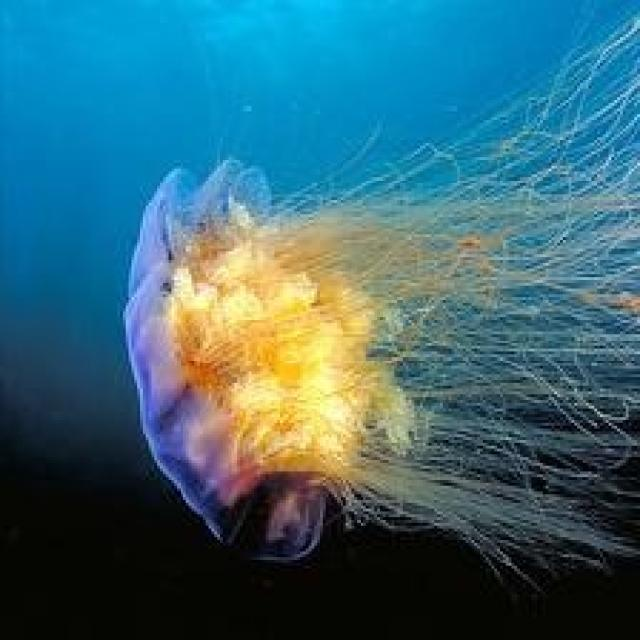Moon-jellyfish: (120, 0, 637, 589)
